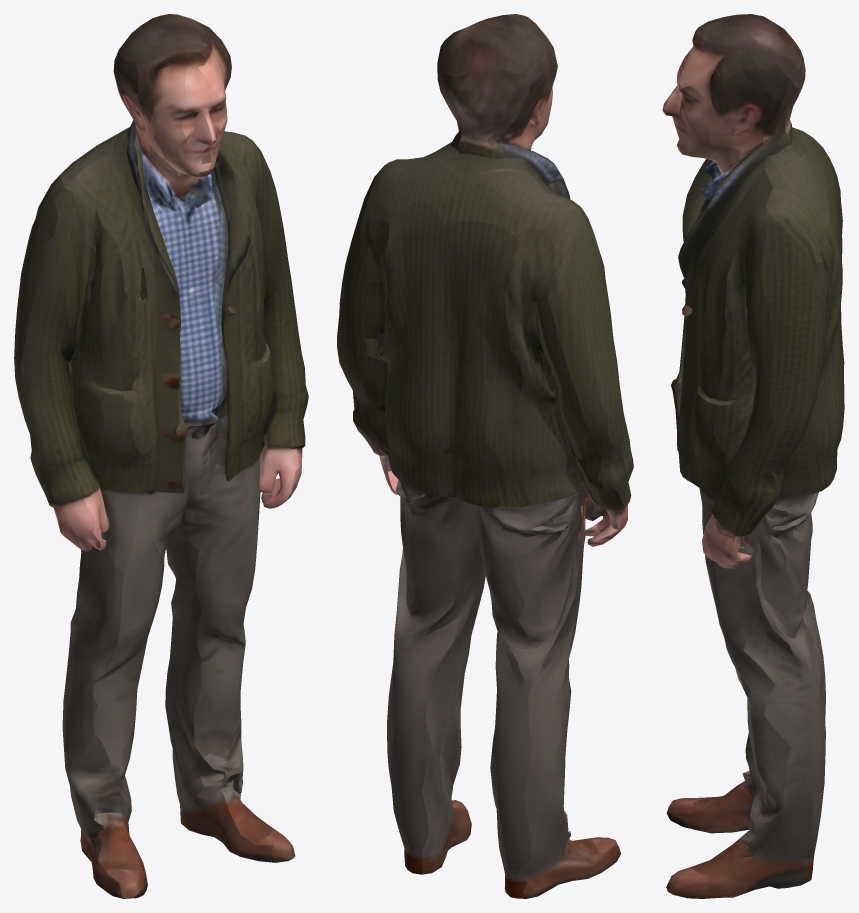
Rendered from doppel_neighbour.glb.
3 views of the same model, side by side, from view 1: azimuth 30°, elevation 25°; view 2: azimuth 150°, elevation 25°; view 3: azimuth 270°, elevation 25° (orthographic).
Visible parts, largest first — view 1: geometry_0; view 2: geometry_0; view 3: geometry_0.
Boxes of the visible parts, bbox=[...] form: geometry_0: bbox=[14, 14, 308, 898]; geometry_0: bbox=[337, 14, 633, 898]; geometry_0: bbox=[662, 14, 844, 898].
Size of the model in its own units: 0.6147 by 1.78 by 0.3516.
Materials: 1 (1 with a texture image).
